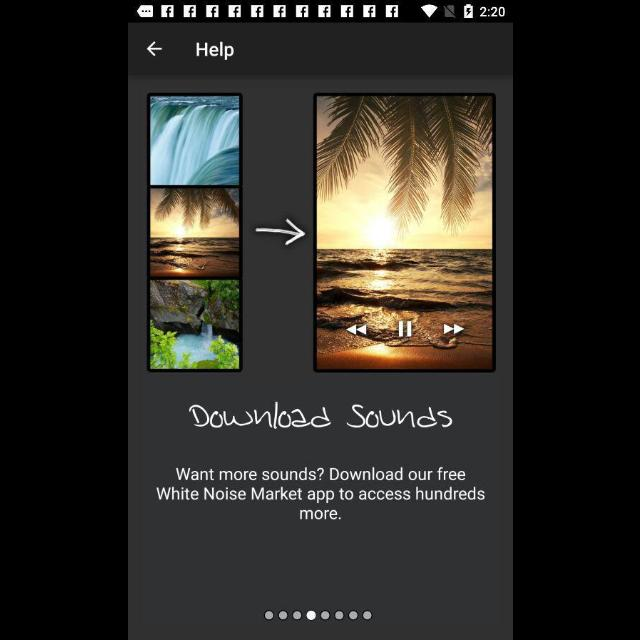icon: (146, 42, 162, 56)
image: (146, 93, 496, 373)
pageindicator: (263, 610, 373, 622)
text: (156, 466, 484, 520), (188, 402, 452, 430), (196, 41, 234, 60)
toolbar: (128, 24, 512, 74)
uppertaskbar: (128, 1, 512, 23)
